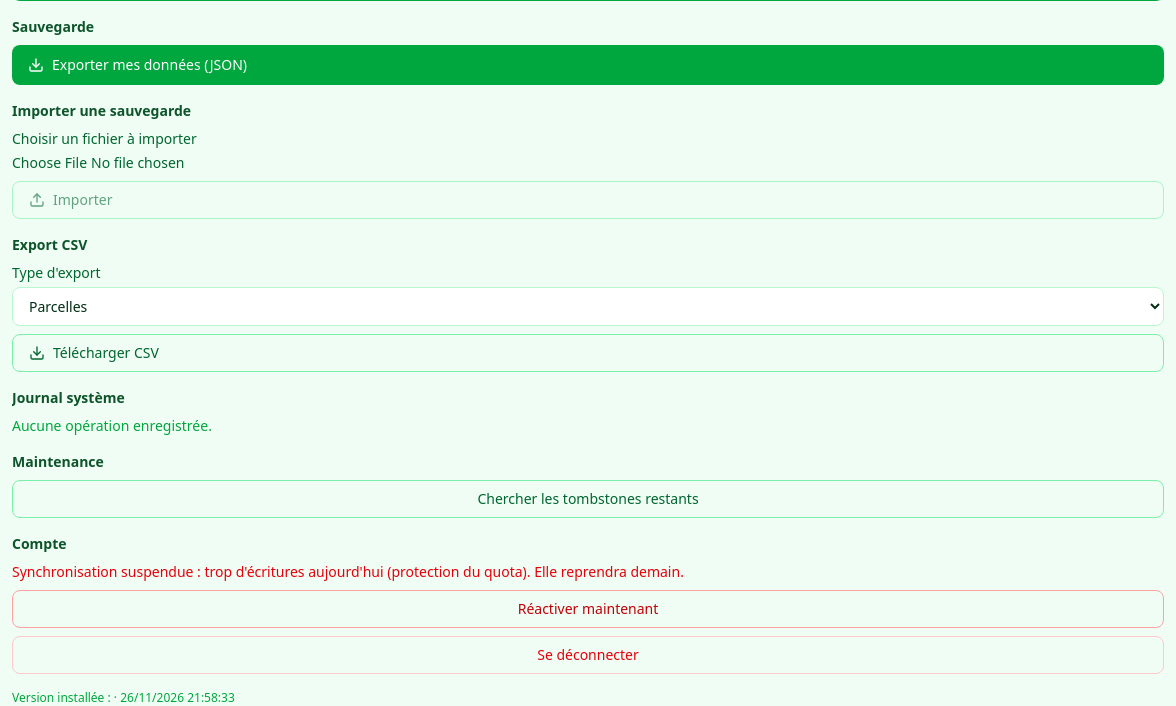
Test case: SettingsPage › affiche la suspension quota et rearme via le bouton quand le disjoncteur est declenche
(page scrolled)
expect the text "Synchronisation suspendue" is shown: met, box [12,562,684,581]
What coordinates should you click on to do the following:
click the button "Réactiver maintenant"
I would click on:
 (588, 609)
Its box is [12,590,1164,628].
(page scrolled)
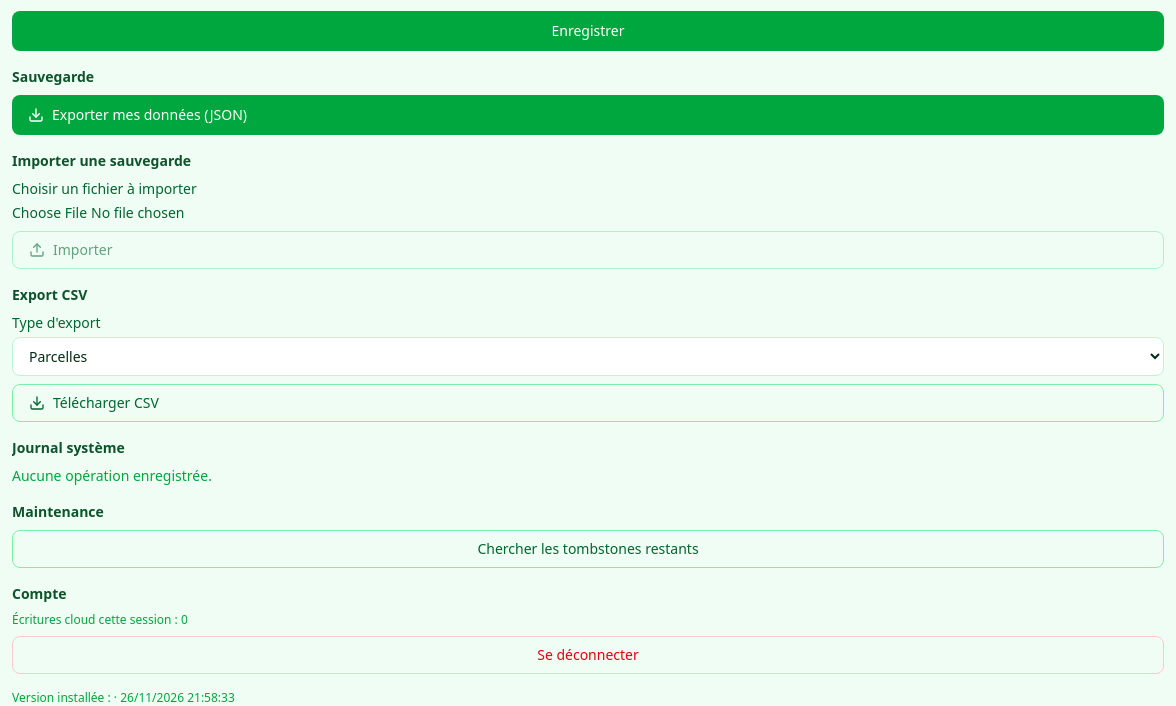
expect the text "Synchronisation suspendue" is gone: met
expect the text "Écritures cloud cette session : 0" is shown: met, box [12,611,188,628]
